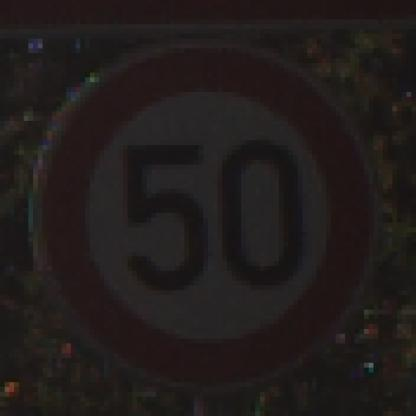Speed Limit 50: (36, 47, 373, 386)
